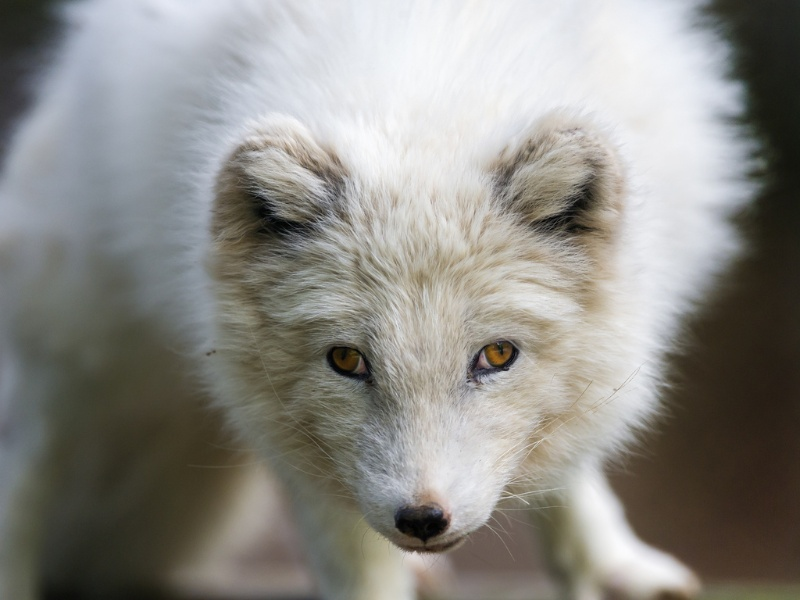fox: (43, 13, 764, 580)
